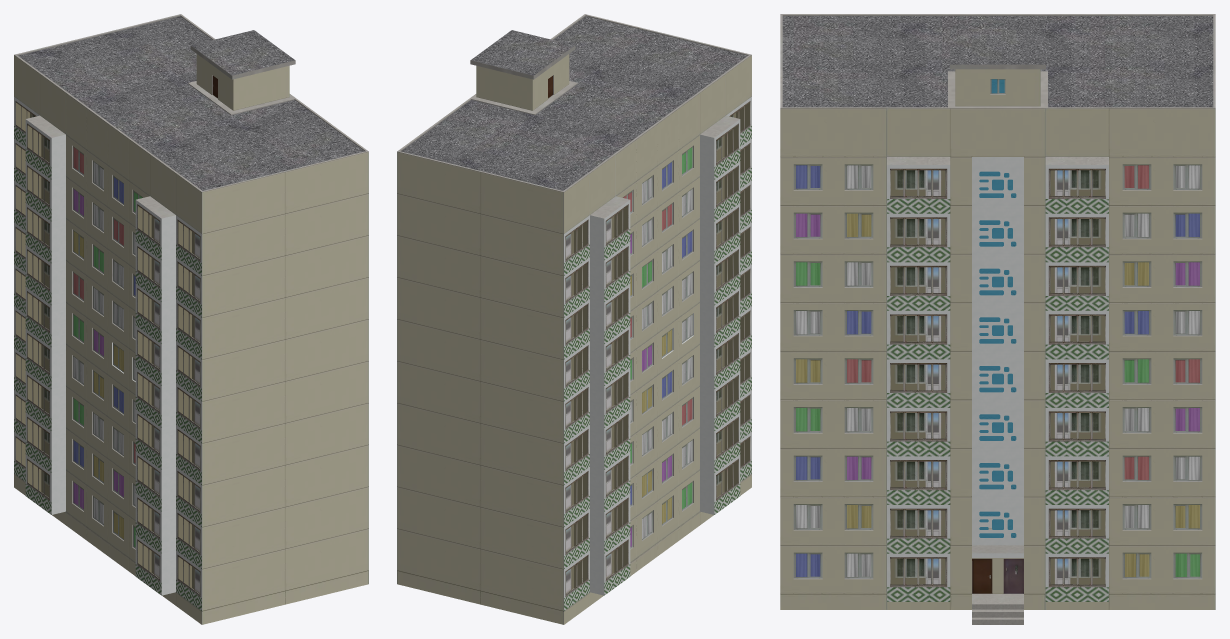
The model's file is tower.glb.
3 views of the same model, side by side, from view 1: azimuth 30°, elevation 25°; view 2: azimuth 150°, elevation 25°; view 3: azimuth 270°, elevation 25° (orthographic). The views are drawn at different scales.
Visible parts, largest first — view 1: Cube_building_0, Cube_windows_0, Cube_interior_0; view 2: Cube_building_0, Cube_windows_0, Cube_interior_0; view 3: Cube_building_0, Cube_windows_0, Cube_interior_0.
Boxes of the visible parts, box(x1,y1,x2,y2) form: Cube_building_0: box(14, 14, 368, 624); Cube_windows_0: box(15, 101, 200, 596); Cube_interior_0: box(73, 147, 142, 546); Cube_building_0: box(397, 14, 751, 624); Cube_windows_0: box(565, 101, 750, 596); Cube_interior_0: box(623, 147, 692, 546); Cube_building_0: box(780, 14, 1215, 624); Cube_windows_0: box(793, 79, 1202, 587); Cube_interior_0: box(796, 165, 1199, 576).
Bounding box in the file's own units: 15.17 × 32.79 × 23.74.
Materials: 3 (3 with a texture image).
